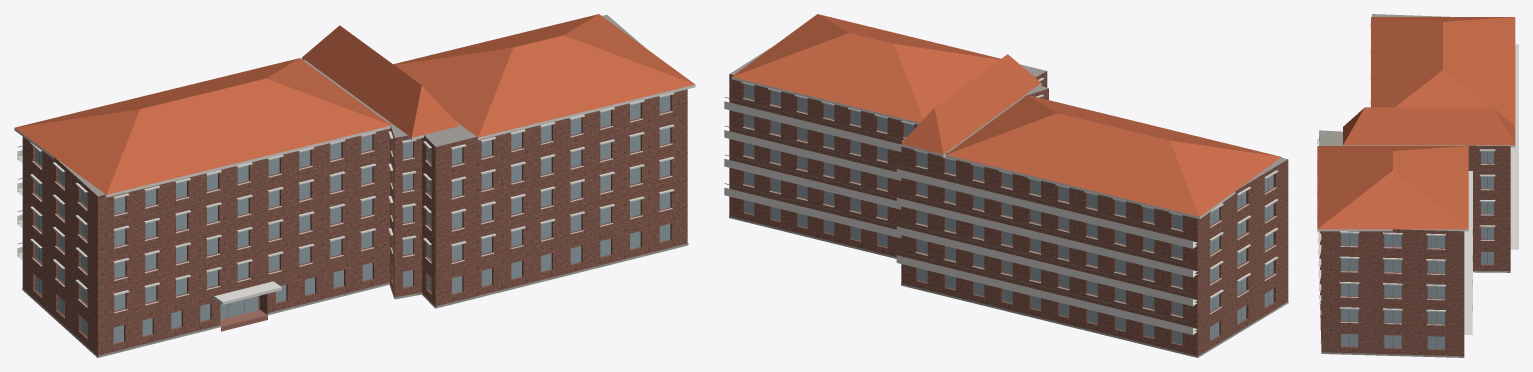
The picture shows the model from 3 angles, left to right: view 1: azimuth 30°, elevation 25°; view 2: azimuth 150°, elevation 25°; view 3: azimuth 270°, elevation 25°; orthographic projection. The views are drawn at different scales.
Parts seen in each view (by area): view 1: osm136242805__wall, osm136242805__roofAccent, osm136242805__glass, osm136242805__trim, osm136242805__base, osm136242805__roof, osm136242805__canopy, osm136242805__entranceThreshold_0; view 2: osm136242805__wall, osm136242805__roofAccent, osm136242805__trim, osm136242805__glass, osm136242805__frame, osm136242805__base, osm136242805__roof; view 3: osm136242805__roofAccent, osm136242805__wall, osm136242805__trim, osm136242805__glass, osm136242805__roof, osm136242805__base, osm136242805__frame.
Boxes of the visible parts, bbox=[...] form: osm136242805__wall: bbox=[22, 89, 687, 357]; osm136242805__roofAccent: bbox=[15, 14, 694, 194]; osm136242805__glass: bbox=[35, 95, 670, 343]; osm136242805__trim: bbox=[14, 58, 695, 313]; osm136242805__base: bbox=[22, 243, 688, 357]; osm136242805__roof: bbox=[56, 15, 645, 308]; osm136242805__canopy: bbox=[214, 281, 281, 304]; osm136242805__entranceThreshold_0: bbox=[220, 310, 267, 331]; osm136242805__wall: bbox=[729, 71, 1288, 357]; osm136242805__roofAccent: bbox=[732, 14, 1281, 216]; osm136242805__trim: bbox=[724, 77, 1281, 334]; osm136242805__glass: bbox=[744, 84, 1273, 344]; osm136242805__frame: bbox=[724, 97, 1268, 338]; osm136242805__base: bbox=[729, 216, 1288, 357]; osm136242805__roof: bbox=[730, 47, 1287, 189]; osm136242805__roofAccent: bbox=[1317, 17, 1515, 229]; osm136242805__wall: bbox=[1319, 16, 1510, 356]; osm136242805__trim: bbox=[1317, 23, 1518, 334]; osm136242805__glass: bbox=[1341, 151, 1493, 349]; osm136242805__roof: bbox=[1319, 14, 1510, 272]; osm136242805__base: bbox=[1319, 270, 1510, 357]; osm136242805__frame: bbox=[1349, 151, 1487, 349].
Bounding box in the file's own units: 55.39 × 18.8 × 21.69.
Materials: 10 (2 with a texture image).
